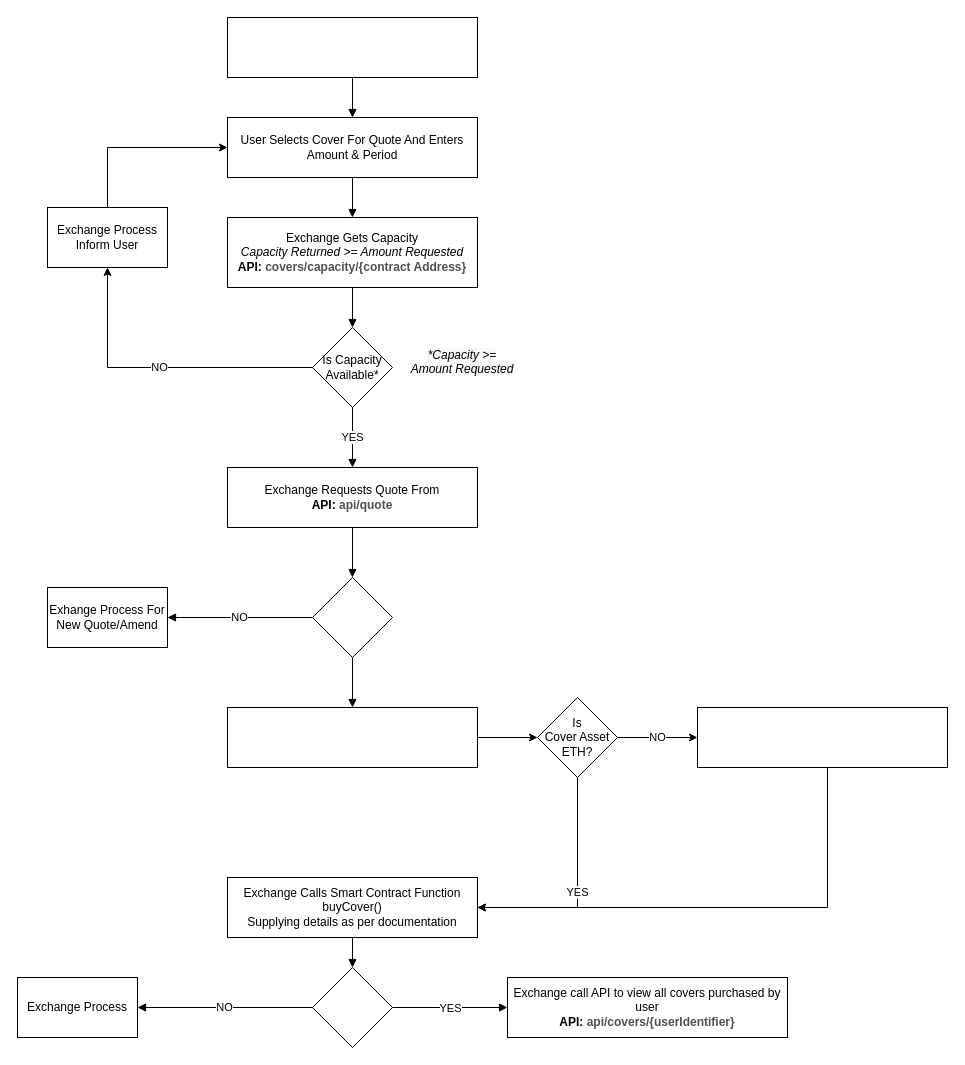
This 965x1065 diagram has some shape labels left out. The centre of each missing label's shape, as x and y in pixels:
Call ERC20 approve on cover asset smart contract as per documentation: [822,737]
Exchange Request Available Covers From API: /api/covers: [352,47]
Exchange stores user identifier for future use: [352,737]
Quote Accepted By User: [352,617]
Successful Purchase: [352,1007]
